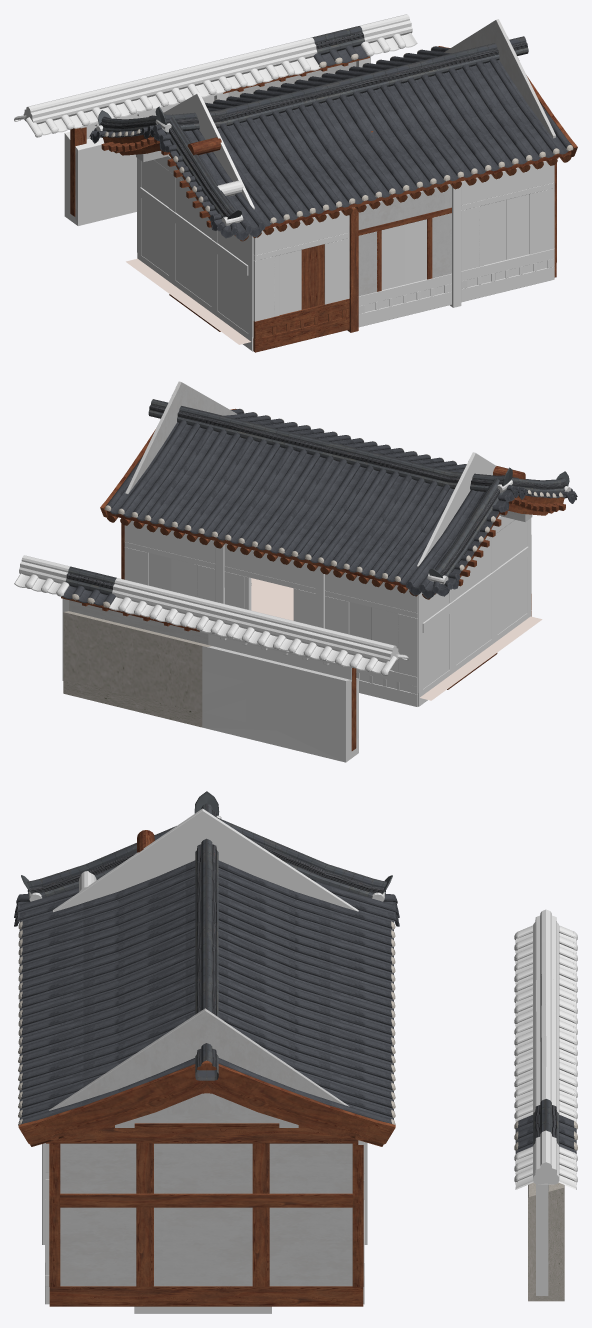
File: house-original.fbx
3 views of the same model, one above another, from view 1: azimuth 30°, elevation 25°; view 2: azimuth 150°, elevation 25°; view 3: azimuth 270°, elevation 25° (orthographic). The views are drawn at different scales.
Parts seen in each view (by area): view 1: SM_GCG_Roof_R_1, SM_GCG_Wall_P_1, SM_GCG_Wallframe_C_2, SM_GCG_StoneFence_A_1, SM_GCG_Wallframe_C_1, SM_GCG_Wallframe_C, SM_GCG_Panelboard_C, SM_GCG_Panelboard_C_2, SM_GCG_Panelboard_C_1, SM_GCG_Trianglewall_E, SM_GCG_Fenceroof_A_5, SM_GCG_Fenceroof_A_2 (+18 smaller); view 2: SM_GCG_Roof_R_1, SM_GCG_StoneFence_A_1, SM_GCG_StoneFence_A, SM_GCG_Wall_P_1, SM_GCG_Wallframe_C_4, SM_GCG_Wallframe_C_3, SM_GCG_Wallframe_C_5, Floor, SM_GCG_Trianglewall_E, SM_GCG_Fenceroof_A_5, SM_GCG_Panelboard_C_5, SM_GCG_Fenceroof_A_2 (+13 smaller); view 3: SM_GCG_Roof_R_1, SM_GCG_Wall_P, SM_GCG_Trianglewall_E, SM_GCG_Trianglewall_E_1, SM_GCG_StoneFence_A, SM_GCG_Fenceroof_A_2, SM_GCG_Fenceroof_A_4, SM_GCG_Fenceroof_A_1, SM_GCG_Fenceroof_A_10, SM_GCG_Fenceroof_A, SM_GCG_Fenceroof_A_7, SM_GCG_Fenceroof_A_5 (+3 smaller).
Part boxes in pixels (x1,y1,x2,y2): SM_GCG_Roof_R_1: (89,36,577,241); SM_GCG_Wall_P_1: (137,156,253,351); SM_GCG_Wallframe_C_2: (253,211,349,321); SM_GCG_StoneFence_A_1: (64,93,222,225); SM_GCG_Wallframe_C_1: (461,161,554,271); SM_GCG_Wallframe_C: (358,184,451,296); SM_GCG_Panelboard_C: (253,298,349,352); SM_GCG_Panelboard_C_2: (358,273,451,327); SM_GCG_Panelboard_C_1: (461,248,554,302); SM_GCG_Trianglewall_E: (444,19,555,138); SM_GCG_Fenceroof_A_5: (14,95,83,137); SM_GCG_Fenceroof_A_2: (359,14,417,56); SM_GCG_Roof_R_1: (100,399,577,599); SM_GCG_StoneFence_A_1: (199,630,358,762); SM_GCG_StoneFence_A: (61,596,211,727); SM_GCG_Wall_P_1: (417,516,531,706); SM_GCG_Wallframe_C_4: (325,569,417,677); SM_GCG_Wallframe_C_3: (224,543,315,626); SM_GCG_Wallframe_C_5: (124,520,215,601); Floor: (251,578,542,700); SM_GCG_Trianglewall_E: (125,381,236,494); SM_GCG_Fenceroof_A_5: (340,634,408,675); SM_GCG_Panelboard_C_5: (356,669,417,706); SM_GCG_Fenceroof_A_2: (14,555,70,596); SM_GCG_Roof_R_1: (14,791,399,1146); SM_GCG_Wall_P: (49,1123,363,1306); SM_GCG_Trianglewall_E: (49,1008,349,1123); SM_GCG_Trianglewall_E_1: (52,808,358,912); SM_GCG_StoneFence_A: (528,1182,564,1301); SM_GCG_Fenceroof_A_2: (514,1130,577,1189); SM_GCG_Fenceroof_A_4: (514,972,577,1027); SM_GCG_Fenceroof_A_1: (514,1067,577,1122); SM_GCG_Fenceroof_A_10: (514,1035,577,1090); SM_GCG_Fenceroof_A: (514,1099,577,1153); SM_GCG_Fenceroof_A_7: (514,941,577,995); SM_GCG_Fenceroof_A_5: (514,909,577,964).
Size of what is drawn, in the model's own units: 933 by 517 by 871.
